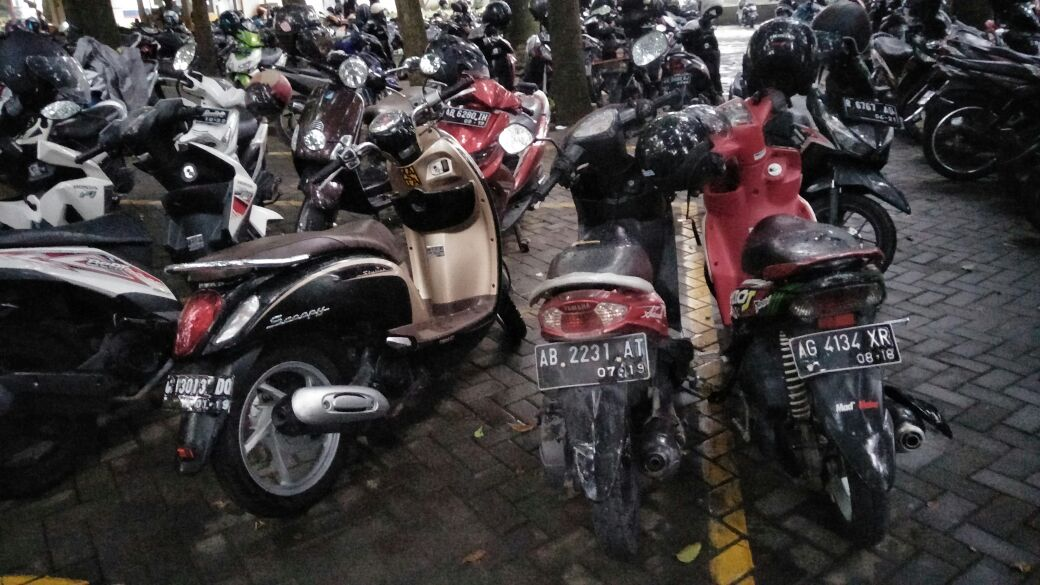plate: (791, 321, 903, 377), (534, 331, 652, 382)
